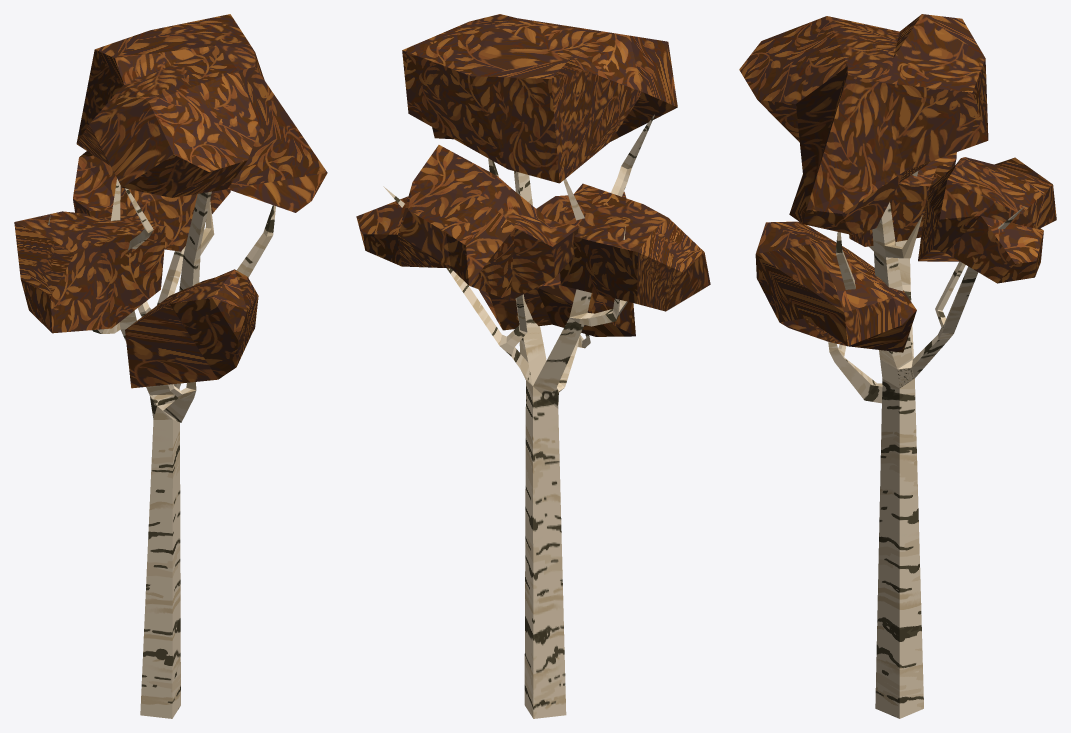
File: D_Tree_tall_lower_poly.fbx
The picture shows the model from 3 angles, left to right: view 1: azimuth 30°, elevation 25°; view 2: azimuth 150°, elevation 25°; view 3: azimuth 270°, elevation 25°; orthographic projection. The views are drawn at different scales.
Visible parts, largest first — view 1: Tall_tree_trunk; view 2: Tall_tree_trunk; view 3: Tall_tree_trunk.
Part boxes in pixels (x1,y1,x2,y2): Tall_tree_trunk: (14,14,327,718); Tall_tree_trunk: (356,14,710,718); Tall_tree_trunk: (739,14,1056,718).
Size of the model in its own units: 5.43 by 12.73 by 5.41.
